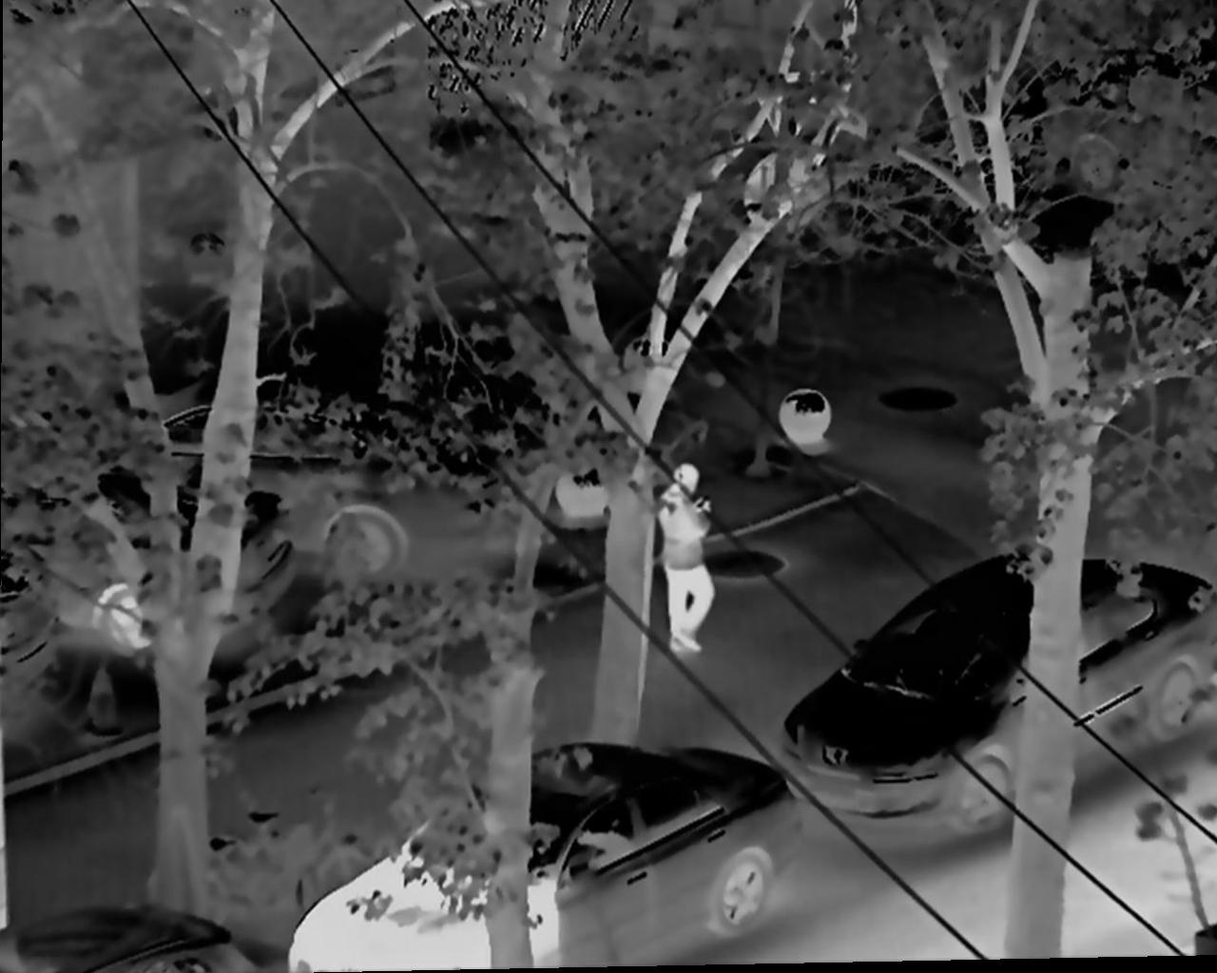person: (656, 465, 714, 661)
